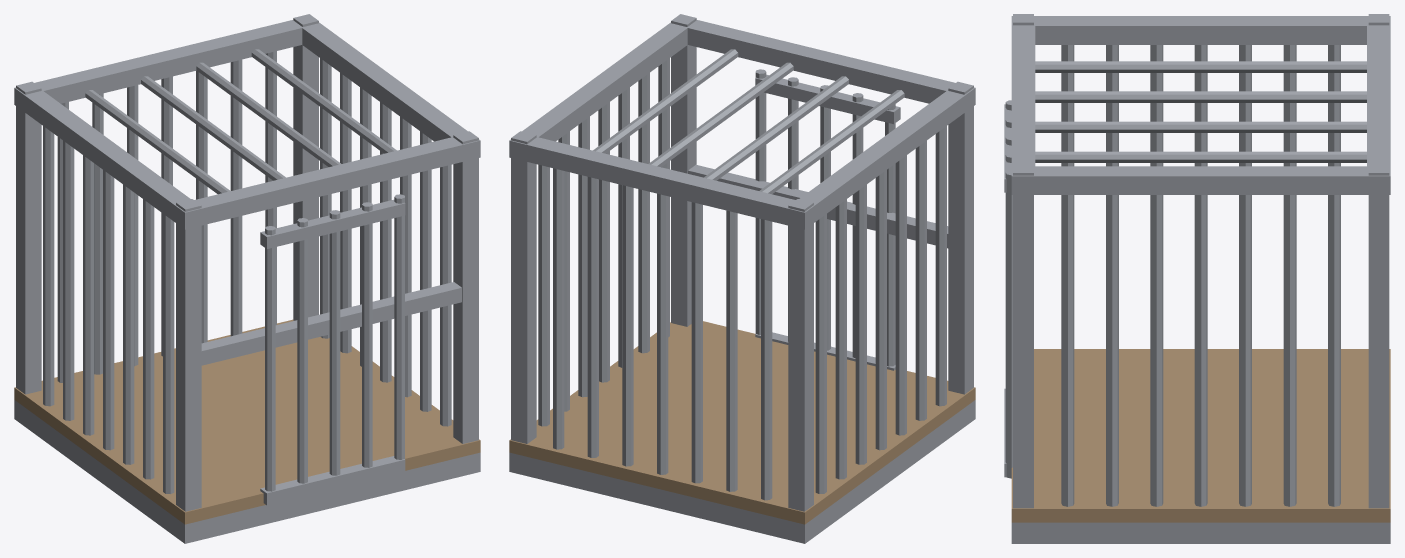
File: dragons-and-wyverns-iron-cage-d78d810d__36752.glb
3 views of the same model, side by side, from view 1: azimuth 30°, elevation 25°; view 2: azimuth 150°, elevation 25°; view 3: azimuth 270°, elevation 25° (orthographic). The views are drawn at different scales.
Parts seen in each view (by area): view 1: iron-cage, cage-door; view 2: iron-cage, cage-door; view 3: iron-cage, cage-door.
Part boxes in pixels (x1,y1,x2,y2): iron-cage: [14, 14, 480, 543]; cage-door: [260, 194, 405, 505]; iron-cage: [509, 14, 975, 543]; cage-door: [755, 69, 900, 370]; iron-cage: [1011, 14, 1390, 543]; cage-door: [1004, 100, 1012, 478].
Bounding box in the file's own units: 2.56 × 2.76 × 2.61.
